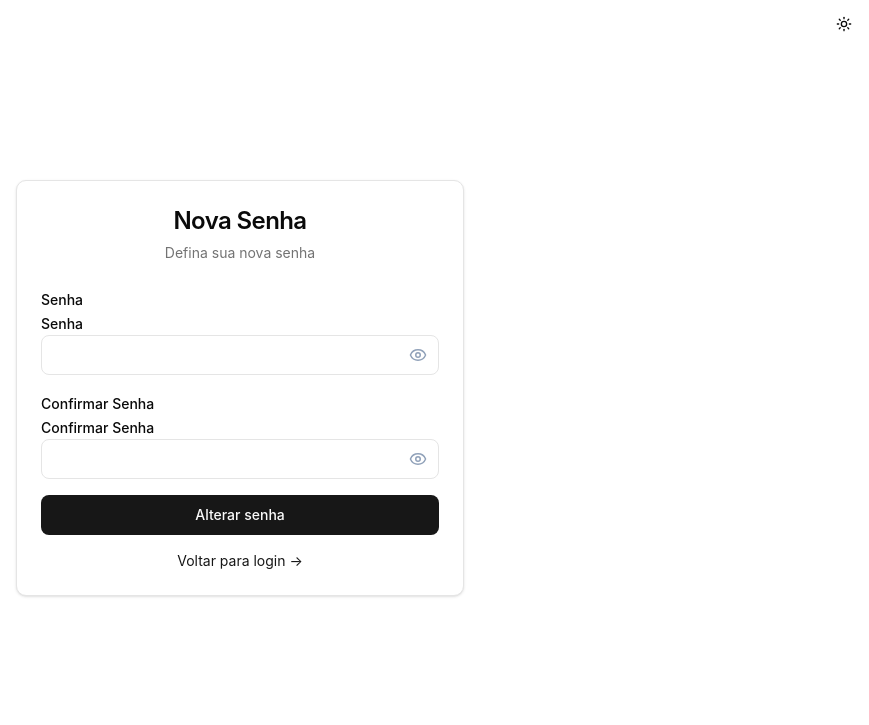
Test case: ResetPasswordPage › shows error for expired token
The width and height of the screenshot is (869, 725).
In the password field labelled "Senha": (240, 355) [41,335,439,375], type "Str0ng@Pass!"
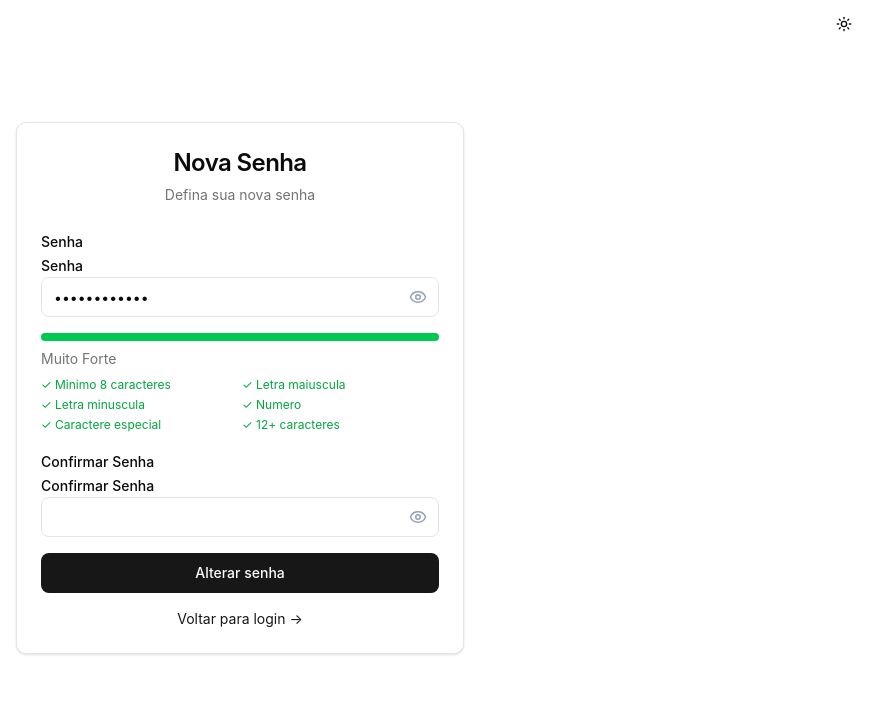
In the password field with id "confirmPassword": (240, 517) [41,497,439,537], type "Str0ng@Pass!"
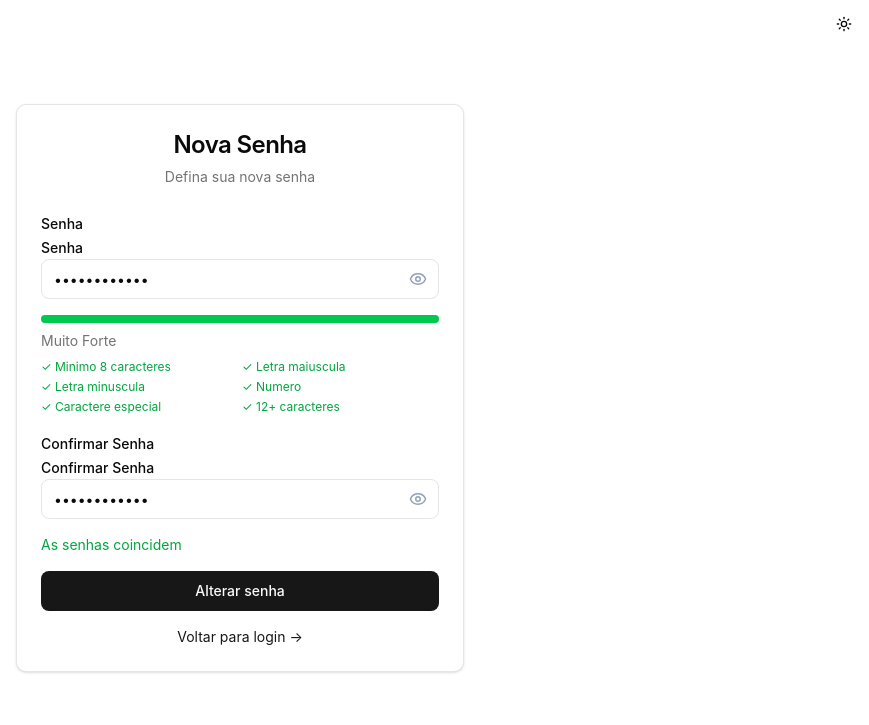
Click the button "Alterar senha": (240, 591) [41,571,439,611]
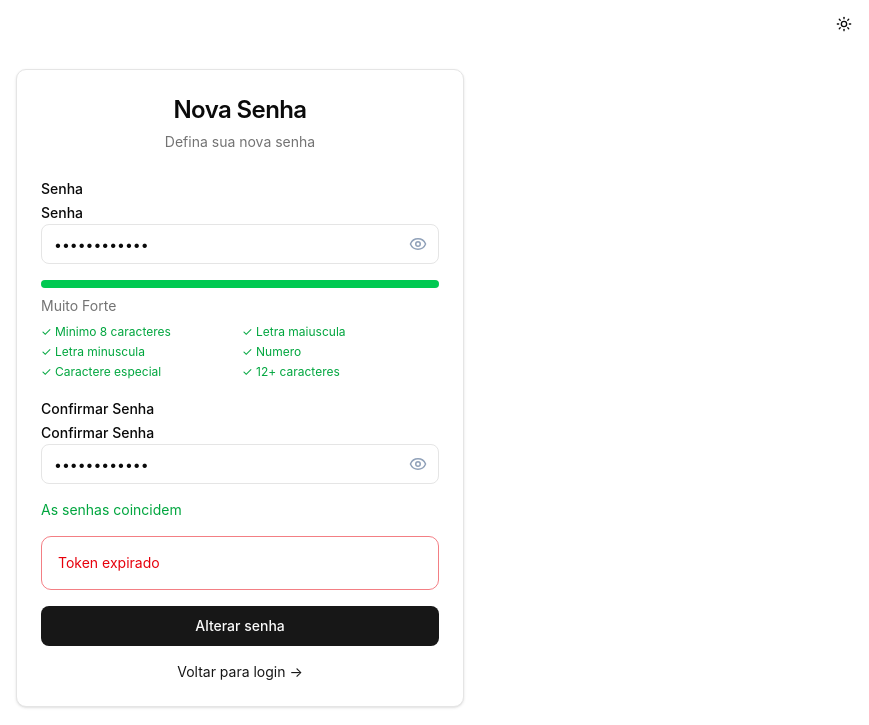
Expected: the text "Token expirado" is shown, [58,554,160,571]
